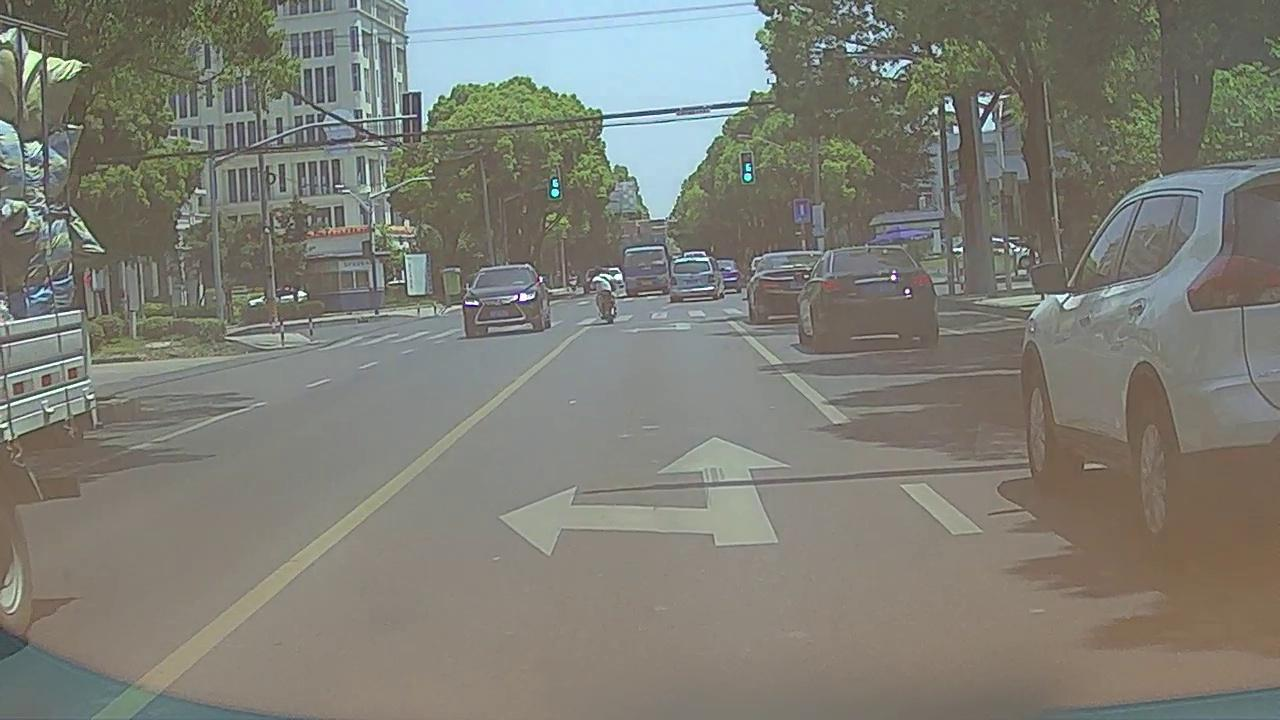traffic_light: (740, 152, 754, 185), (547, 168, 560, 199)
